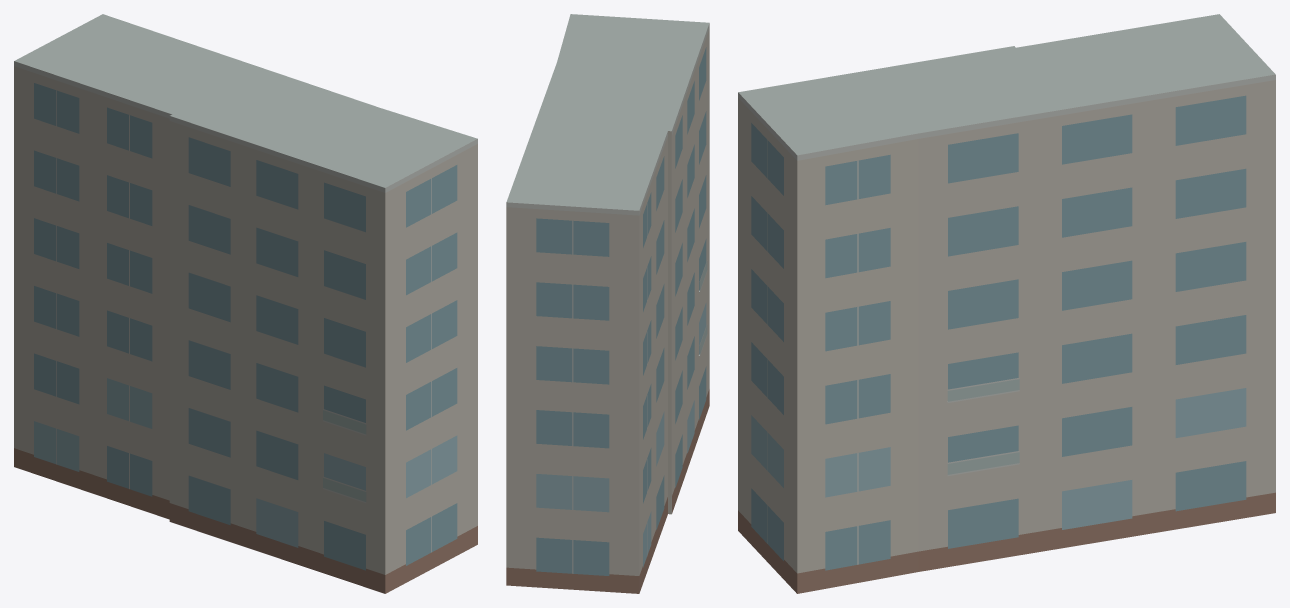
Rendered from survey-upis-32941902.glb.
3 renders of one model, left to right at view 1: azimuth 30°, elevation 25°; view 2: azimuth 150°, elevation 25°; view 3: azimuth 270°, elevation 25°, orthographic. The views are drawn at different scales.
Visible parts, largest first — view 1: survey-upis-32941902.tmp; view 2: survey-upis-32941902.tmp; view 3: survey-upis-32941902.tmp.
Part boxes in pixels (<box>): survey-upis-32941902.tmp: <box>14,14,477,593</box>; survey-upis-32941902.tmp: <box>506,14,709,593</box>; survey-upis-32941902.tmp: <box>738,14,1275,593</box>.
Bounding box in the file's own units: 13.6 × 19.65 × 21.85.
